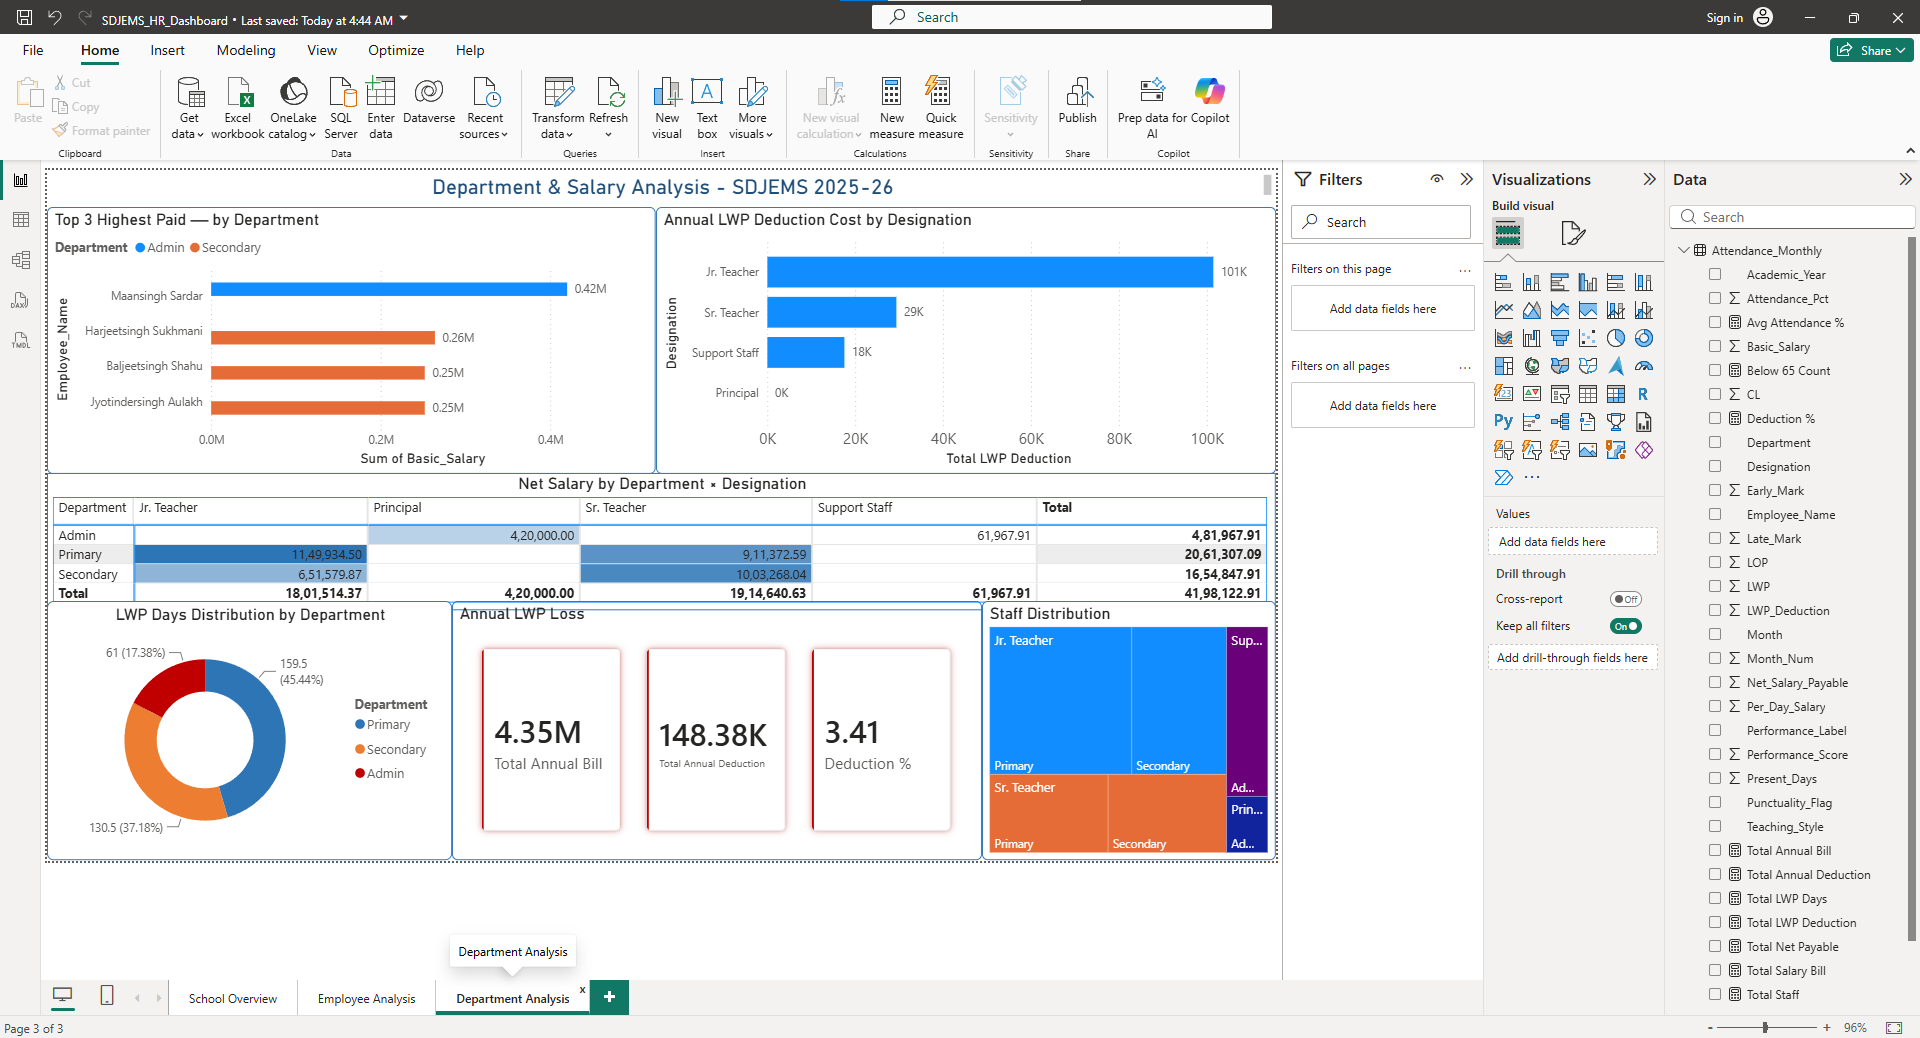

Layout of this report page (visuals, bound fields, positions):
{"tool":"powerbi","page":{"name":"Department Analysis","canvas":[1280,720],"ordinal":2},"visuals":[{"type":"textbox","box":[10.2,0,1269.8,38.6],"z":0},{"type":"clusteredBarChart","title":"Top 3 Highest Paid — by Department","fields":{"Category":["Attendance_Monthly.Employee_Name"],"Y":["Sum(Attendance_Monthly.Basic_Salary)"],"Series":["Attendance_Monthly.Department"]},"box":[0,38.2,634.5,277.5],"z":1000},{"type":"clusteredBarChart","title":"Annual LWP Deduction Cost by Designation","fields":{"Category":["Attendance_Monthly.Designation"],"Y":["Attendance_Monthly.Total LWP Deduction"]},"box":[634.5,38.2,645.5,277.5],"z":2000},{"type":"pivotTable","title":"Net Salary by Department × Designation","fields":{"Rows":["Attendance_Monthly.Department"],"Columns":["Attendance_Monthly.Designation"],"Values":["Attendance_Monthly.Total Net Payable"]},"box":[0,315.7,1280,142.8],"z":3000},{"type":"donutChart","title":"LWP Days Distribution by Department","fields":{"Category":["Attendance_Monthly.Department"],"Y":["Attendance_Monthly.Total LWP Days"]},"box":[0,449.5,422.3,270.5],"z":4000},{"type":"cardVisual","title":"Annual LWP Loss","fields":{"Data":["Attendance_Monthly.Total Annual Bill","Attendance_Monthly.Total Annual Deduction","Attendance_Monthly.Deduction %"]},"box":[422.3,449.5,552,270.5],"z":5000},{"type":"treemap","title":"Staff Distribution","fields":{"Group":["Attendance_Monthly.Designation"],"Details":["Attendance_Monthly.Department"],"Values":["Attendance_Monthly.Total Staff"]},"box":[974.3,449.5,305.7,270.5],"z":6000}]}

Visuals, with their boxes on the page's 1280x720 design canvas (x1, y1, x2, y2). These are canvas units, not pixel positions in the 1920x1038 screenshot, which may show the page scaled, cropped or inside an application window:
textbox: {"left": 10, "top": 0, "right": 1280, "bottom": 39}
"Top 3 Highest Paid — by Department" clusteredBarChart: {"left": 0, "top": 38, "right": 634, "bottom": 316}
"Annual LWP Deduction Cost by Designation" clusteredBarChart: {"left": 634, "top": 38, "right": 1280, "bottom": 316}
"Net Salary by Department × Designation" pivotTable: {"left": 0, "top": 316, "right": 1280, "bottom": 458}
"LWP Days Distribution by Department" donutChart: {"left": 0, "top": 450, "right": 422, "bottom": 720}
"Annual LWP Loss" cardVisual: {"left": 422, "top": 450, "right": 974, "bottom": 720}
"Staff Distribution" treemap: {"left": 974, "top": 450, "right": 1280, "bottom": 720}
